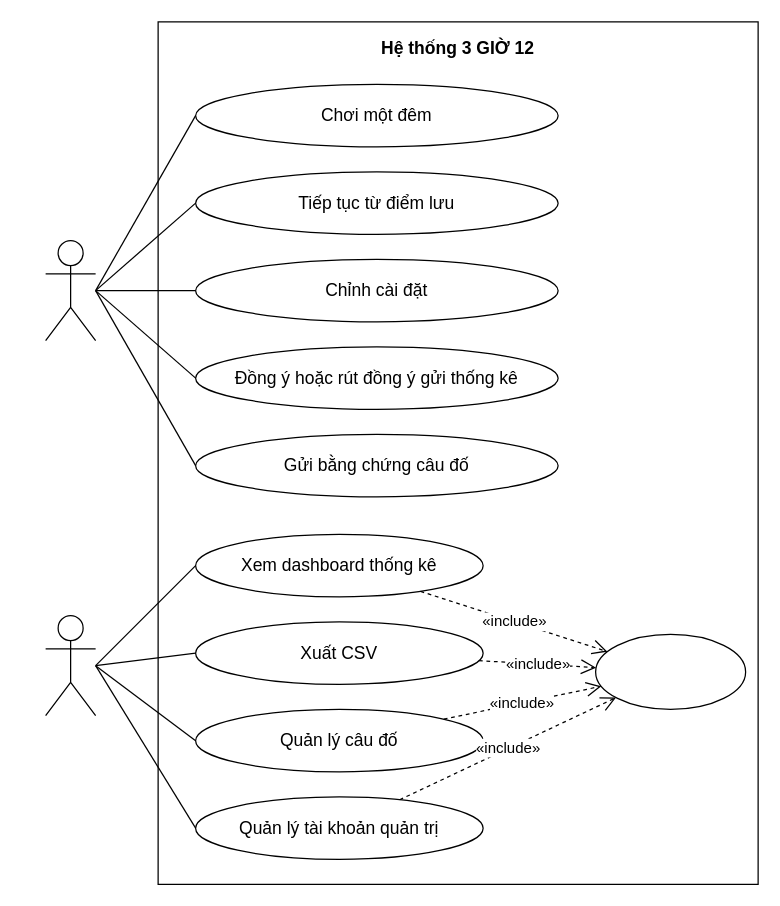
Image size: 780x906. Some labels were removed from this diagram. The centre of each missing label's shape, as x and y in pixels:
Người chơi: (70,290)
Quản trị viên: (70,665)
Đăng nhập: (670,671)
